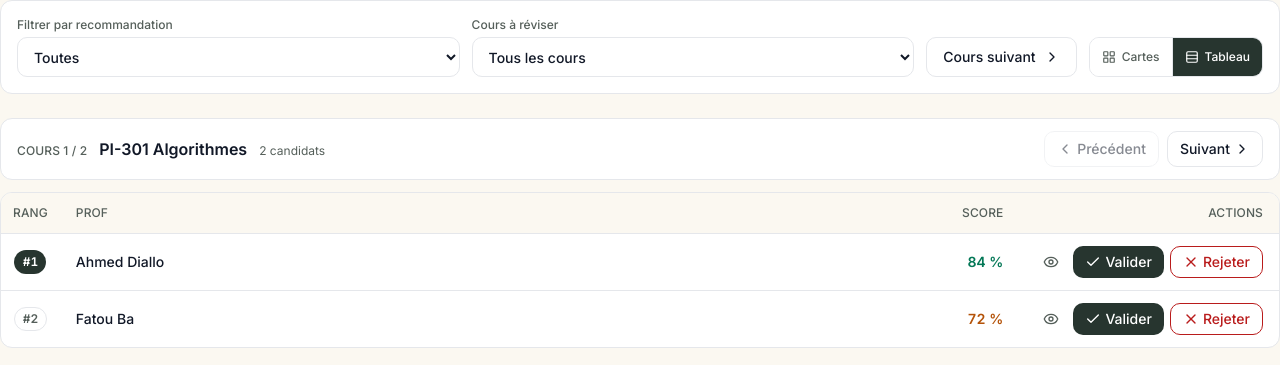
AffectationTable › permet de parcourir les cours un par un
Step 1. Select "PI-301 Algorithmes" in the dropdown labelled "Cours à réviser" → (693, 57), box x1=472 y1=37 x2=914 y2=77
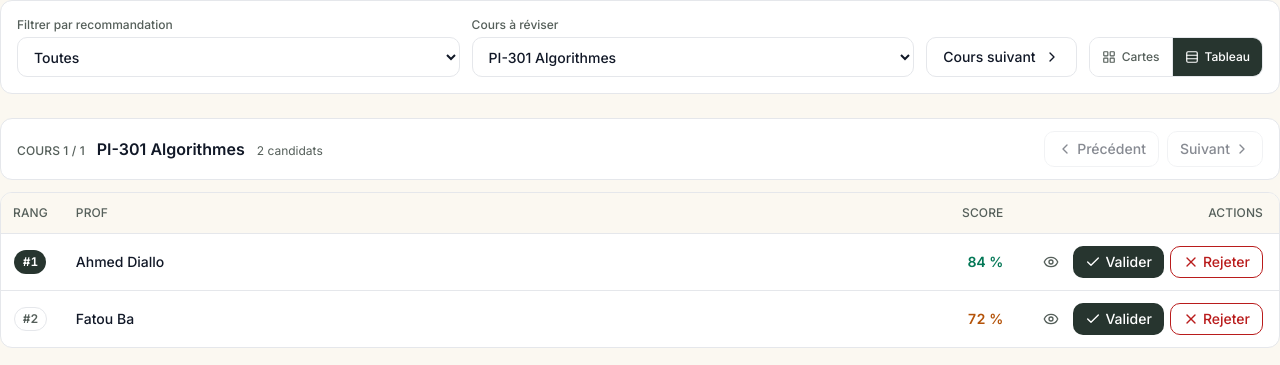
Step 2. Click the button "Cours suivant" → (1001, 57), box x1=926 y1=37 x2=1077 y2=77
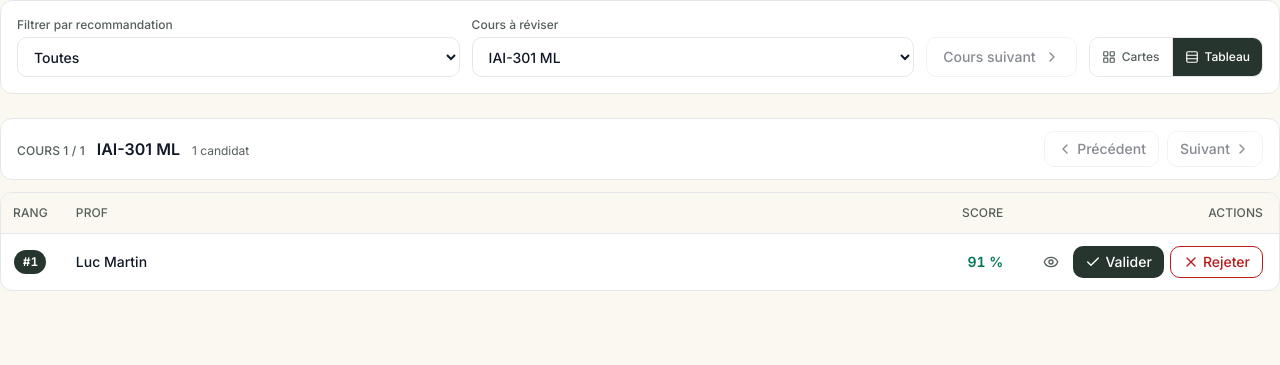
Expected: the heading "IAI-301 ML" is shown, x1=97 y1=137 x2=180 y2=161
Expected: the heading "PI-301 Algorithmes" is gone
